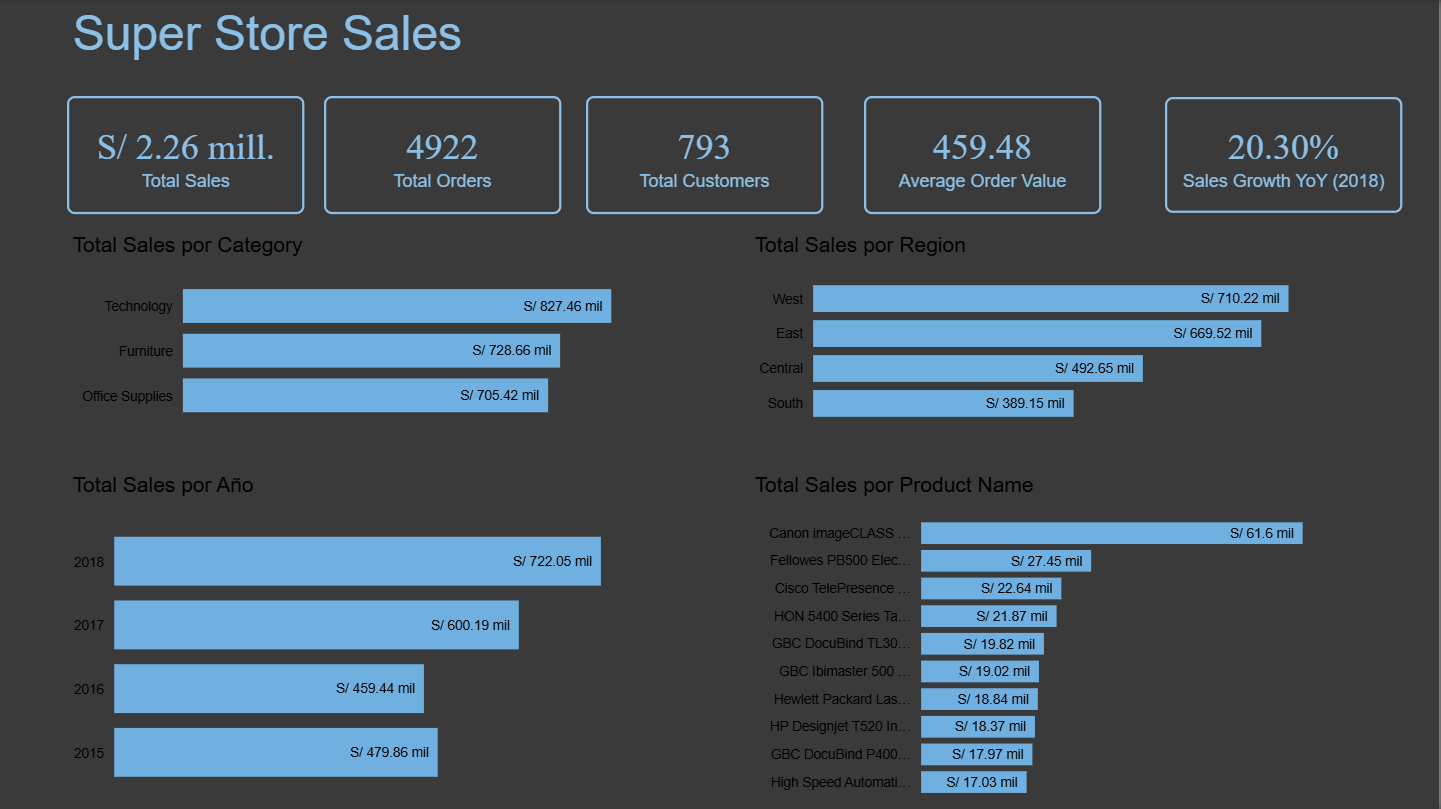

What the dashboard file says about the page in this screenshot:
{"tool":"powerbi","page":{"name":"Página 1","canvas":[1280,720],"ordinal":0},"visuals":[{"type":"card","fields":{"Values":["train.Total Sales"]},"box":[60.3,85.6,211.1,105],"z":0},{"type":"card","fields":{"Values":["train.Total Orders"]},"box":[288.9,85.3,210.7,104.9],"z":1000},{"type":"card","fields":{"Values":["train.Total Customers"]},"box":[521.8,85.3,210.7,104.9],"z":2000},{"type":"card","fields":{"Values":["train.Average Order Value"]},"box":[768.9,85.3,210.7,104.9],"z":3000},{"type":"clusteredBarChart","title":"Total Sales por Category","fields":{"Category":["train.Category"],"Y":["train.Total Sales"]},"box":[60.3,207.2,567.1,181.9],"z":4000},{"type":"clusteredBarChart","title":"Total Sales por Region","fields":{"Category":["train.Region"],"Y":["train.Total Sales"]},"box":[666.3,207.2,559.3,181.9],"z":5000},{"type":"clusteredBarChart","title":"Total Sales por Año","fields":{"Category":["train.Order Date.Variación.Jerarquía de fechas.Año","train.Order Date.Variación.Jerarquía de fechas.Trimestre","train.Order Date.Variación.Jerarquía de fechas.Mes","train.Order Date.Variación.Jerarquía de fechas.Día"],"Y":["train.Total Sales"]},"box":[60.3,420.2,553.4,299.6],"z":6000},{"type":"clusteredBarChart","title":"Total Sales por Product Name","fields":{"Category":["train.Product Name"],"Y":["train.Total Sales"]},"box":[666.3,420.2,559.3,299.6],"z":7000},{"type":"textbox","box":[60.3,0,371.6,62.2],"z":8000},{"type":"card","fields":{"Values":["train.Sales Growth YoY"]},"box":[1036.4,86,210.8,103.4],"z":9000}]}

Visuals, with their boxes in screenshot pixels (x1, y1, x2, y2), scaled from the page's 1280x720 canvas onto the 1441x809 screenshot:
card - train.Total Sales: <region>68, 96, 306, 214</region>
card - train.Total Orders: <region>325, 96, 562, 214</region>
card - train.Total Customers: <region>587, 96, 825, 214</region>
card - train.Average Order Value: <region>866, 96, 1103, 214</region>
"Total Sales por Category" clusteredBarChart: <region>68, 233, 706, 437</region>
"Total Sales por Region" clusteredBarChart: <region>750, 233, 1380, 437</region>
"Total Sales por Año" clusteredBarChart: <region>68, 472, 691, 808</region>
"Total Sales por Product Name" clusteredBarChart: <region>750, 472, 1380, 808</region>
textbox: <region>68, 0, 486, 70</region>
card - train.Sales Growth YoY: <region>1167, 97, 1404, 213</region>
